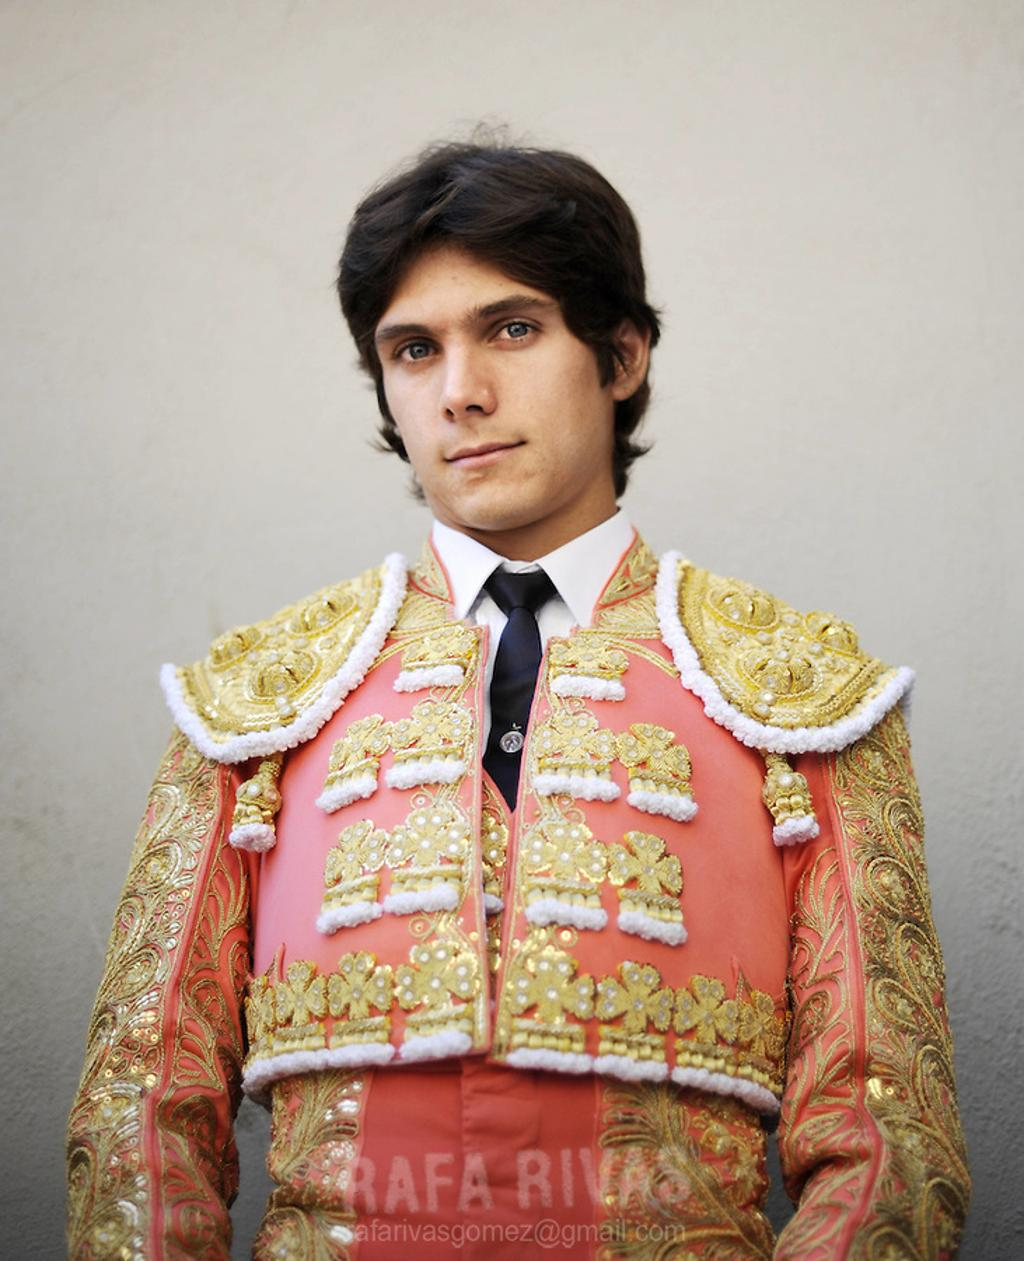face: (383, 274, 600, 513)
